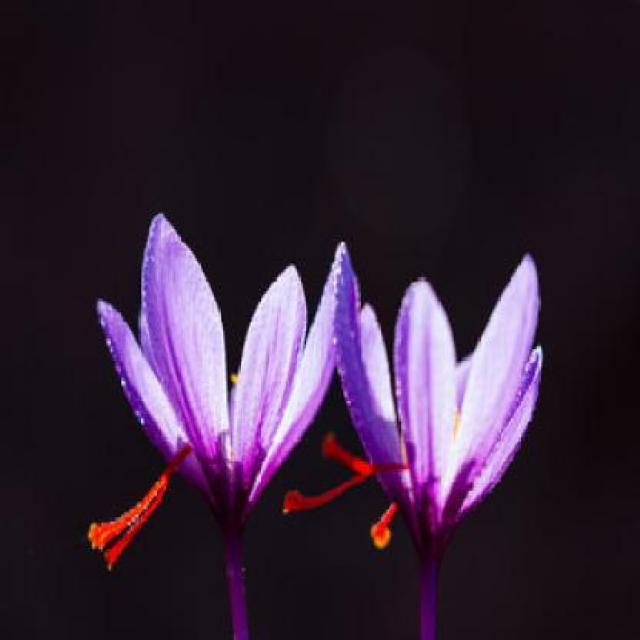Flower: (90, 211, 352, 531), (327, 252, 568, 560)
stigma: (88, 444, 196, 552), (100, 444, 192, 570), (280, 457, 416, 516), (322, 432, 414, 477)
